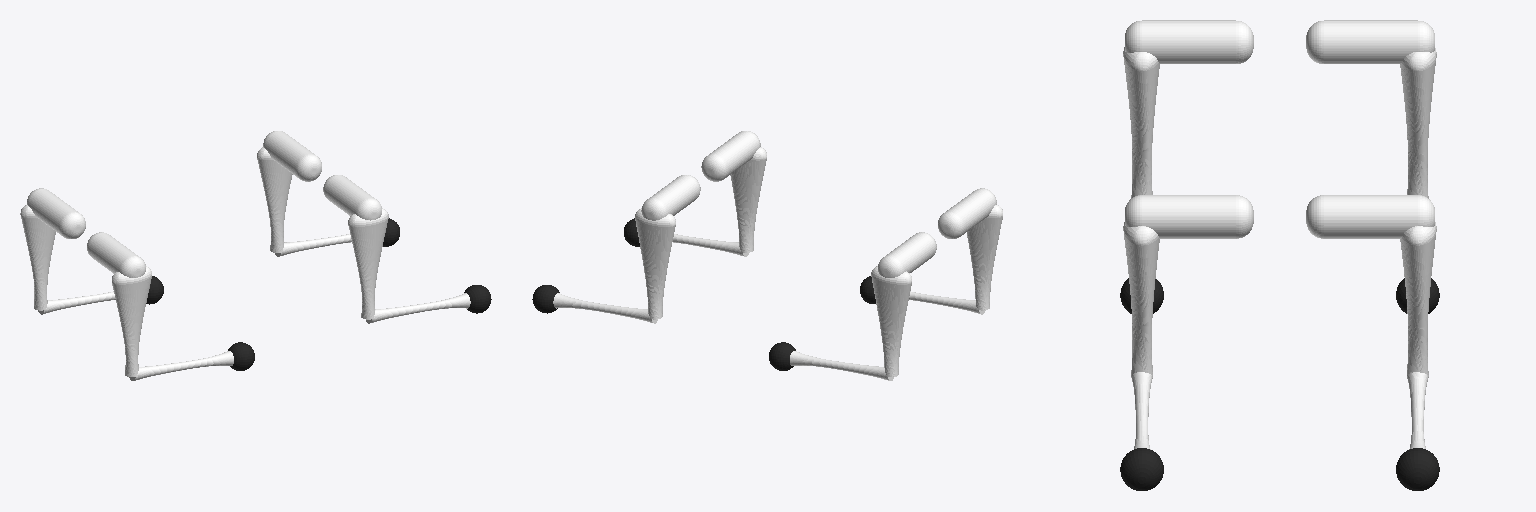
robot.urdf — cyberdog_description:
<?xml version="1.0" ?>
<robot name="cyberdog_description">
  <material name="black">
    <color rgba="0.0 0.0 0.0 1.0"/>
  </material>
  <material name="blue">
    <color rgba="0.0 0.0 0.8 1.0"/>
  </material>
  <material name="green">
    <color rgba="0.0 0.8 0.0 1.0"/>
  </material>
  <material name="grey">
    <color rgba="0.2 0.2 0.2 1.0"/>
  </material>
  <material name="silver">
    <color rgba="0.913725490196 0.913725490196 0.847058823529 1.0"/>
  </material>
  <material name="orange">
    <color rgba="1.0 0.423529411765 0.0392156862745 1.0"/>
  </material>
  <material name="brown">
    <color rgba="0.870588235294 0.811764705882 0.764705882353 1.0"/>
  </material>
  <material name="red">
    <color rgba="0.8 0.0 0.0 1.0"/>
  </material>
  <material name="white">
    <color rgba="1.0 1.0 1.0 1.0"/>
  </material>

  <!-- 悬挂 -->
  <!-- <link name="world"/>
  <joint name="base_static_joint" type="fixed">
      <origin rpy="0 0 0" xyz="0 0 0"/>
      <parent link="world"/>
      <child link="base"/>
  </joint> -->

  <link name="base">
    <visual>
      <origin rpy="0 0 0" xyz="0 0 0"/>
      <geometry>
        <box size="0.001 0.001 0.001"/>
      </geometry>
    </visual>
  </link>
  <joint name="floating_base" type="fixed">
    <origin rpy="0 0 0" xyz="0 0 0"/>
    <parent link="base"/>
    <child link="trunk"/>
  </joint>
  <link name="trunk">
    <inertial>
      <origin
        xyz="0 0 0"
        rpy="0 0 0" />
      <mass value="7.18" />
      <inertia
        ixx="0.032051"
        ixy="-0.00023217"
        ixz="0.002728"
        iyy="0.13707"
        iyz="5.6623E-05"
        izz="0.14946" />
    </inertial>
    <visual>
      <origin
        xyz="0 0 0"
        rpy="0 0 0" />
      <geometry>
        <mesh filename="../meshes/trunk.dae" />
      </geometry>
      <material name="">
        <color rgba="1 1 1 1" />
      </material>
    </visual>
    <collision>
      <origin
        xyz="0 0 0"
        rpy="0 0 0" />
      <geometry>
        <mesh filename="../meshes/trunk.STL" />
      </geometry>
    </collision>
  </link>

  <joint name="imu_joint" type="fixed">
    <parent link="trunk"/>
    <child link="imu_link"/>
    <origin rpy="0 0 0" xyz="0 0 0"/>
  </joint>
  <link name="imu_link">
    <!-- <inertial>
      <mass value="0.001"/>
      <origin rpy="0 0 0" xyz="0 0 0"/>
      <inertia ixx="0.0001" ixy="0" ixz="0" iyy="0.0001" iyz="0" izz="0.0001"/>
    </inertial>
    <visual>
      <origin rpy="0 0 0" xyz="0 0 0"/>
      <geometry>
        <box size="0.001 0.001 0.001"/>
      </geometry>
      <material name="red"/>
    </visual>
    <collision>
      <origin rpy="0 0 0" xyz="0 0 0"/>
      <geometry>
        <box size=".001 .001 .001"/>
      </geometry>
    </collision> -->
  </link>

  <link name="FR_hip">
    <inertial>
      <origin
        xyz="0 -0.053575 0"
        rpy="0 0 0" />
      <mass value="0.509" />
      <inertia
        ixx="0.00038097"
        ixy="1.2523E-05"
        ixz="-1.1653E-05"
        iyy="0.00069383"
        iyz="5.071E-06"
        izz="0.00047336" />
    </inertial>
    <visual>
      <origin
        xyz="0 0 0"
        rpy="0 0 0" />
      <geometry>
        <mesh filename="../meshes/hip_mirror.dae" />
      </geometry>
      <material name="">
        <color rgba="1 1 1 1" />
      </material>
    </visual>
    <collision>
      <origin
        xyz="0 0 0"
        rpy="0 0 0" />
      <geometry>
        <mesh filename="../meshes/hip_mirror.STL" />
      </geometry>
    </collision>
  </link>
  <joint name="FR_hip_joint"
    type="revolute">
    <origin
      xyz="0.23536 -0.05 0"
      rpy="0 0 0" />
    <parent link="trunk" />
    <child link="FR_hip" />
    <axis xyz="1 0 0" />
    <limit
      lower="-0.75"
      upper="0.75"
      effort="17"
      velocity="38.19" />
    <dynamics
      damping="0.0"
      friction="0.0" />
  </joint>
  <link name="FR_thigh">
    <inertial>
      <origin
        xyz="0 0 -0.1"
        rpy="0 0 0" />
      <mass value="0.664" />
      <inertia
        ixx="0.0033376"
        ixy="-7.1504E-07"
        ixz="-0.00019282"
        iyy="0.0026385"
        iyz="-9.3033E-06"
        izz="0.0013093" />
    </inertial>
    <visual>
      <origin
        xyz="0 0 0"
        rpy="0 0 0" />
      <geometry>
        <mesh filename="../meshes/thigh.dae" />
      </geometry>
      <material name="">
        <color rgba="1 1 1 1" />
      </material>
    </visual>
    <collision>
      <origin
        xyz="0 0 0"
        rpy="0 0 0" />
      <geometry>
        <mesh filename="../meshes/thigh.STL" />
      </geometry>
    </collision>
  </link>
  <joint name="FR_thigh_joint"
    type="revolute">
    <origin
      xyz="0 -0.10715 0"
      rpy="0 0 0" />
    <parent link="FR_hip" />
    <child link="FR_thigh" />
    <axis xyz="0 1 0" />
    <limit
      lower="-1.257"
      upper="4.363"
      effort="24"
      velocity="38.19" />
    <dynamics
      damping="0.0"
      friction="0.0" />
  </joint>
  <link name="FR_calf">
    <inertial>
      <origin
        xyz="0 0 -0.11439"
        rpy="0 0 0" />
      <mass value="0.114" />
      <inertia
        ixx="0.0014553"
        ixy="-3.2376E-08"
        ixz="8.3885E-05"
        iyy="0.0021522"
        iyz="5.1259E-07"
        izz="0.00070545" />
    </inertial>
    <visual>
      <origin
        xyz="0 0 0"
        rpy="0 0 0" />
      <geometry>
        <mesh filename="../meshes/calf.dae" />
      </geometry>
      <material name="">
        <color rgba="1 1 1 1" />
      </material>
    </visual>
    <collision>
      <origin
        xyz="0 0 0"
        rpy="0 0 0" />
      <geometry>
        <mesh filename="../meshes/calf.STL" />
      </geometry>
    </collision>
  </link>
  <joint name="FR_calf_joint"
    type="revolute">
    <origin
      xyz="0 0 -0.2"
      rpy="0 0 0" />
    <parent link="FR_thigh" />
    <child link="FR_calf" />
    <axis xyz="0 1 0" />
    <limit
      lower="-2.478"
      upper="-0.506"
      effort="24"
      velocity="38.19" />
    <dynamics
      damping="0.0"
      friction="0.0" />
  </joint>
  <joint name="FR_foot_fixed" type="fixed"  dont_collapse="true">
    <origin rpy="0 0 0" xyz="0 0 -0.217"/>
    <parent link="FR_calf"/>
    <child link="FR_foot"/>
  </joint>
  <link name="FR_foot">
    <visual>
      <origin rpy="0 0 0" xyz="0 0 0"/>
      <geometry>
        <sphere radius="0.025"/>
      </geometry>
      <material name="grey"/>
    </visual>
    <collision>
      <origin rpy="0 0 0" xyz="0 0 0"/>
      <geometry>
        <sphere radius="0.025"/>
      </geometry>
    </collision>
    <inertial>
      <mass value="0.026"/>
      <inertia ixx="0.0" ixy="0.0" ixz="0.0" iyy="0.0" iyz="0.0" izz="0.0"/>
    </inertial>
  </link>

  <link name="FL_hip">
    <inertial>
      <origin
        xyz="0 0.053575 0"
        rpy="0 0 0" />
      <mass value="0.509" />
      <inertia
        ixx="0.00038097"
        ixy="1.2523E-05"
        ixz="-1.1653E-05"
        iyy="0.00069383"
        iyz="5.071E-06"
        izz="0.00047336" />
    </inertial>
    <visual>
      <origin
        xyz="0 0 0"
        rpy="0 0 0" />
      <geometry>
        <mesh filename="../meshes/hip.dae" />
      </geometry>
      <material name="">
        <color rgba="1 1 1 1" />
      </material>
    </visual>
    <collision>
      <origin
        xyz="0 0 0"
        rpy="0 0 0" />
      <geometry>
        <mesh filename="../meshes/hip.STL" />
      </geometry>
    </collision>
  </link>
  <joint name="FL_hip_joint"
    type="revolute">
    <origin
      xyz="0.23536 0.05 0"
      rpy="0 0 0" />
    <parent link="trunk" />
    <child link="FL_hip" />
    <axis xyz="1 0 0" />
    <limit
      lower="-0.75"
      upper="0.75"
      effort="17"
      velocity="38.19" />
    <dynamics
      damping="0.0"
      friction="0.0" />
  </joint>
  <link name="FL_thigh">
    <inertial>
      <origin
        xyz="0 0 -0.1"
        rpy="0 0 0" />
      <mass value="0.664" />
      <inertia
        ixx="0.0033376"
        ixy="-7.150375E-07"
        ixz="-0.00019282"
        iyy="0.0026385"
        iyz="-9.3033E-06"
        izz="0.0013093" />
    </inertial>
    <visual>
      <origin
        xyz="0 0 0"
        rpy="0 0 0" />
      <geometry>
        <mesh filename="../meshes/thigh.dae" />
      </geometry>
      <material name="">
        <color rgba="1 1 1 1" />
      </material>
    </visual>
    <collision>
      <origin
        xyz="0 0 0"
        rpy="0 0 0" />
      <geometry>
        <mesh filename="../meshes/thigh.STL" />
      </geometry>
    </collision>
  </link>
  <joint name="FL_thigh_joint"
    type="revolute">
    <origin
      xyz="0 0.10715 0"
      rpy="0 0 0" />
    <parent link="FL_hip" />
    <child link="FL_thigh" />
    <axis xyz="0 1 0" />
    <limit
      lower="-1.257"
      upper="4.363"
      effort="24"
      velocity="38.19" />
    <dynamics
      damping="0.0"
      friction="0.0" />
  </joint>
  <link name="FL_calf">
    <inertial>
      <origin
        xyz="0 0 -0.11439"
        rpy="0 0 0" />
      <mass value="0.114" />
      <inertia
        ixx="0.0014553"
        ixy="-3.2376E-08"
        ixz="8.3885E-05"
        iyy="0.0021522"
        iyz="5.1259E-07"
        izz="0.00070545" />
    </inertial>
    <visual>
      <origin
        xyz="0 0 0"
        rpy="0 0 0" />
      <geometry>
        <mesh filename="../meshes/calf.dae" />
      </geometry>
      <material name="">
        <color rgba="1 1 1 1" />
      </material>
    </visual>
    <collision>
      <origin
        xyz="0 0 0"
        rpy="0 0 0" />
      <geometry>
        <mesh filename="../meshes/calf.STL" />
      </geometry>
    </collision>
  </link>
  <joint name="FL_calf_joint"
    type="revolute">
    <origin
      xyz="0 0 -0.2"
      rpy="0 0 0" />
    <parent link="FL_thigh" />
    <child link="FL_calf" />
    <axis xyz="0 1 0" />
    <limit
      lower="-2.478"
      upper="-0.506"
      effort="24"
      velocity="38.19" />
    <dynamics
      damping="0.0"
      friction="0.0" />
  </joint>
  <joint name="FL_foot_fixed" type="fixed" dont_collapse="true">
    <origin rpy="0 0 0" xyz="0 0 -0.217"/>
    <parent link="FL_calf"/>
    <child link="FL_foot"/>
  </joint>
  <link name="FL_foot">
    <visual>
      <origin rpy="0 0 0" xyz="0 0 0"/>
      <geometry>
        <sphere radius="0.025"/>
      </geometry>
      <material name="grey"/>
    </visual>
    <collision>
      <origin rpy="0 0 0" xyz="0 0 0"/>
      <geometry>
        <sphere radius="0.025"/>
      </geometry>
    </collision>
    <inertial>
      <mass value="0.026"/>
      <inertia ixx="0.0" ixy="0.0" ixz="0.0" iyy="0.0" iyz="0.0" izz="0.0"/>
    </inertial>
  </link>

  <link name="RR_hip">
    <inertial>
      <origin
        xyz="0 -0.053575 0"
        rpy="0 0 0" />
      <mass value="0.509" />
      <inertia
        ixx="0.00038097"
        ixy="1.2523E-05"
        ixz="-1.1653E-05"
        iyy="0.00069383"
        iyz="5.071E-06"
        izz="0.00047336" />
    </inertial>
    <visual>
      <origin
        xyz="0 0 0"
        rpy="0 0 0" />
      <geometry>
        <mesh filename="../meshes/hip_mirror.dae" />
      </geometry>
      <material name="">
        <color rgba="1 1 1 1" />
      </material>
    </visual>
    <collision>
      <origin
        xyz="0 0 0"
        rpy="0 0 0" />
      <geometry>
        <mesh filename="../meshes/hip_mirror.STL" />
      </geometry>
    </collision>
  </link>
  <joint name="RR_hip_joint"
    type="revolute">
    <origin
      xyz="-0.23536 -0.05 0"
      rpy="0 0 0" />
    <parent link="trunk" />
    <child link="RR_hip" />
    <axis xyz="1 0 0" />
    <limit
      lower="-0.75"
      upper="0.75"
      effort="17"
      velocity="38.19" />
    <dynamics
      damping="0.0"
      friction="0.0" />
  </joint>
  <link name="RR_thigh">
    <inertial>
      <origin
        xyz="0 0 -0.1"
        rpy="0 0 0" />
      <mass value="0.664" />
      <inertia
        ixx="0.0033376"
        ixy="-7.150375E-07"
        ixz="-0.00019282"
        iyy="0.0026385"
        iyz="-9.3033E-06"
        izz="0.0013093" />
    </inertial>
    <visual>
      <origin
        xyz="0 0 0"
        rpy="0 0 0" />
      <geometry>
        <mesh filename="../meshes/thigh.dae" />
      </geometry>
      <material name="">
        <color rgba="1 1 1 1" />
      </material>
    </visual>
    <collision>
      <origin
        xyz="0 0 0"
        rpy="0 0 0" />
      <geometry>
        <mesh filename="../meshes/thigh.STL" />
      </geometry>
    </collision>
  </link>
  <joint name="RR_thigh_joint"
    type="revolute">
    <origin
      xyz="0 -0.10715 0"
      rpy="0 0 0" />
    <parent link="RR_hip" />
    <child link="RR_thigh" />
    <axis xyz="0 1 0" />
    <limit
      lower="-2.01"
      upper="3.49"
      effort="24"
      velocity="38.19" />
    <dynamics
      damping="0.0"
      friction="0.0" />
  </joint>
  <link name="RR_calf">
    <inertial>
      <origin
        xyz="0 0 -0.11439"
        rpy="0 0 0" />
      <mass value="0.114" />
      <inertia
        ixx="0.0014553"
        ixy="-3.2376E-08"
        ixz="8.3885E-05"
        iyy="0.0021522"
        iyz="5.1259E-07"
        izz="0.00070545" />
    </inertial>
    <visual>
      <origin
        xyz="0 0 0"
        rpy="0 0 0" />
      <geometry>
        <mesh filename="../meshes/calf.dae" />
      </geometry>
      <material name="">
        <color rgba="1 1 1 1" />
      </material>
    </visual>
    <collision>
      <origin
        xyz="0 0 0"
        rpy="0 0 0" />
      <geometry>
        <mesh filename="../meshes/calf.STL" />
      </geometry>
    </collision>
  </link>
  <joint name="RR_calf_joint"
    type="revolute">
    <origin
      xyz="0 0 -0.2"
      rpy="0 0 0" />
    <parent link="RR_thigh" />
    <child link="RR_calf" />
    <axis xyz="0 1 0" />
    <limit
      lower="-2.478"
      upper="-0.506"
      effort="24"
      velocity="38.19" />
    <dynamics
      damping="0.0"
      friction="0.0" />
  </joint>
  <joint name="RR_foot_fixed" type="fixed" dont_collapse="true">
    <origin rpy="0 0 0" xyz="0 0 -0.217"/>
    <parent link="RR_calf"/>
    <child link="RR_foot"/>
  </joint>
  <link name="RR_foot">
    <visual>
      <origin rpy="0 0 0" xyz="0 0 0"/>
      <geometry>
        <sphere radius="0.025"/>
      </geometry>
      <material name="grey"/>
    </visual>
    <collision>
      <origin rpy="0 0 0" xyz="0 0 0"/>
      <geometry>
        <sphere radius="0.025"/>
      </geometry>
    </collision>
    <inertial>
      <mass value="0.026"/>
      <inertia ixx="0.0" ixy="0.0" ixz="0.0" iyy="0.0" iyz="0.0" izz="0.0"/>
    </inertial>
  </link>

  <link name="RL_hip">
    <inertial>
      <origin
        xyz="0 0.053575 0"
        rpy="0 0 0" />
      <mass value="0.509" />
      <inertia
        ixx="0.00038097"
        ixy="1.2523E-05"
        ixz="-1.1653E-05"
        iyy="0.00069383"
        iyz="5.071E-06"
        izz="0.00047336" />
    </inertial>
    <visual>
      <origin
        xyz="0 0 0"
        rpy="0 0 0" />
      <geometry>
        <mesh filename="../meshes/hip.dae" />
      </geometry>
      <material name="">
        <color rgba="1 1 1 1" />
      </material>
    </visual>
    <collision>
      <origin
        xyz="0 0 0"
        rpy="0 0 0" />
      <geometry>
        <mesh filename="../meshes/hip.STL" />
      </geometry>
    </collision>
  </link>
  <joint name="RL_hip_joint"
    type="revolute">
    <origin
      xyz="-0.23536 0.05 0"
      rpy="0 0 0" />
    <parent link="trunk" />
    <child link="RL_hip" />
    <axis xyz="1 0 0" />
    <limit
      lower="-0.75"
      upper="0.75"
      effort="17"
      velocity="38.19" />
    <dynamics
      damping="0.0"
      friction="0.0" />
  </joint>
  <link name="RL_thigh">
    <inertial>
      <origin
        xyz="0 0 -0.1"
        rpy="0 0 0" />
      <mass value="0.664" />
      <inertia
        ixx="0.0033376"
        ixy="-7.1504E-07"
        ixz="-0.00019282"
        iyy="0.0026385"
        iyz="-9.3033E-06"
        izz="0.0013093" />
    </inertial>
    <visual>
      <origin
        xyz="0 0 0"
        rpy="0 0 0" />
      <geometry>
        <mesh filename="../meshes/thigh.dae" />
      </geometry>
      <material name="">
        <color rgba="1 1 1 1" />
      </material>
    </visual>
    <collision>
      <origin
        xyz="0 0 0"
        rpy="0 0 0" />
      <geometry>
        <mesh filename="../meshes/thigh.STL" />
      </geometry>
    </collision>
  </link>
  <joint name="RL_thigh_joint"
    type="revolute">
    <origin
      xyz="0 0.10715 0"
      rpy="0 0 0" />
    <parent link="RL_hip" />
    <child link="RL_thigh" />
    <axis xyz="0 1 0" />
    <limit
      lower="-2.01"
      upper="3.49"
      effort="24"
      velocity="38.19" />
    <dynamics
      damping="0.0"
      friction="0.0" />
  </joint>
  <link name="RL_calf">
    <inertial>
      <origin
        xyz="0 0 -0.11439"
        rpy="0 0 0" />
      <mass value="0.114" />
      <inertia
        ixx="0.0014553"
        ixy="-3.2376E-08"
        ixz="8.3885E-05"
        iyy="0.0021522"
        iyz="5.1259E-07"
        izz="0.00070545" />
    </inertial>
    <visual>
      <origin
        xyz="0 0 0"
        rpy="0 0 0" />
      <geometry>
        <mesh filename="../meshes/calf.dae" />
      </geometry>
      <material name="">
        <color rgba="1 1 1 1" />
      </material>
    </visual>
    <collision>
      <origin
        xyz="0 0 0"
        rpy="0 0 0" />
      <geometry>
        <mesh filename="../meshes/calf.STL" />
      </geometry>
    </collision>
  </link>
  <joint name="RL_calf_joint"
    type="revolute">
    <origin
      xyz="0 0 -0.2"
      rpy="0 0 0" />
    <parent link="RL_thigh" />
    <child link="RL_calf" />
    <axis xyz="0 1 0" />
    <limit
      lower="-2.478"
      upper="-0.506"
      effort="24"
      velocity="38.19" />
    <dynamics
      damping="0.0"
      friction="0.0" />
  </joint>
  <joint name="RL_foot_fixed" type="fixed" dont_collapse="true">
    <origin rpy="0 0 0" xyz="0 0 -0.217"/>
    <parent link="RL_calf"/>
    <child link="RL_foot"/>
  </joint>
  <link name="RL_foot">
    <visual>
      <origin rpy="0 0 0" xyz="0 0 0"/>
      <geometry>
        <sphere radius="0.025"/>
      </geometry>
      <material name="grey"/>
    </visual>
    <collision>
      <origin rpy="0 0 0" xyz="0 0 0"/>
      <geometry>
        <sphere radius="0.025"/>
      </geometry>
    </collision>
    <inertial>
      <mass value="0.026"/>
      <inertia ixx="0.0" ixy="0.0" ixz="0.0" iyy="0.0" iyz="0.0" izz="0.0"/>
    </inertial>
  </link>

</robot>

--- Render facts (derived) ---
Views: 3 orthographic renders of the robot side by side, from view 1: azimuth 30°, elevation 25°; view 2: azimuth 150°, elevation 25°; view 3: azimuth 270°, elevation 25°.
Robot: cyberdog_description — 19 links, 18 joints (12 revolute, 6 fixed); root link base; default pose: all joints at 0 but 4 set to mid-range because 0 is outside their limits (FR_calf_joint = -1.49, FL_calf_joint = -1.49, RR_calf_joint = -1.49, RL_calf_joint = -1.49).
Links seen in each view (by area): view 1: FR_thigh, RR_thigh, RL_thigh, FL_thigh, FL_hip, RL_hip, RR_hip, FR_hip, RR_calf, FR_calf, FL_calf, RL_calf (+2 smaller); view 2: FL_thigh, RL_thigh, FR_thigh, RR_thigh, FR_hip, RR_hip, FL_hip, RL_hip, RL_calf, FL_calf, FR_calf, RR_calf (+2 smaller); view 3: RL_hip, RR_hip, FL_hip, FR_hip, FR_thigh, FL_thigh, RR_thigh, RL_thigh, FR_foot, FL_foot, FL_calf, FR_calf.
Link boxes in pixels (left/top/right/bottom): FR_thigh: left=348, top=208, right=388, bottom=319; RR_thigh: left=112, top=266, right=151, bottom=376; RL_thigh: left=20, top=205, right=55, bottom=310; FL_thigh: left=257, top=147, right=292, bottom=252; FL_hip: left=263, top=131, right=321, bottom=181; RL_hip: left=27, top=188, right=85, bottom=238; RR_hip: left=87, top=232, right=145, bottom=277; FR_hip: left=323, top=175, right=381, bottom=220; RR_calf: left=129, top=351, right=233, bottom=380; FR_calf: left=366, top=293, right=470, bottom=323; FL_calf: left=275, top=234, right=351, bottom=256; RL_calf: left=38, top=291, right=115, bottom=314; FL_thigh: left=635, top=208, right=675, bottom=319; RL_thigh: left=871, top=266, right=911, bottom=376; FR_thigh: left=730, top=147, right=766, bottom=252; RR_thigh: left=967, top=205, right=1002, bottom=310; FR_hip: left=701, top=131, right=760, bottom=181; RR_hip: left=938, top=188, right=996, bottom=238; FL_hip: left=641, top=175, right=700, bottom=220; RL_hip: left=878, top=232, right=936, bottom=277; RL_calf: left=790, top=351, right=893, bottom=380; FL_calf: left=553, top=293, right=657, bottom=323; FR_calf: left=673, top=234, right=748, bottom=256; RR_calf: left=909, top=291, right=985, bottom=314; RL_hip: left=1306, top=20, right=1434, bottom=63; RR_hip: left=1125, top=20, right=1253, bottom=63; FL_hip: left=1306, top=195, right=1434, bottom=238; FR_hip: left=1125, top=195, right=1253, bottom=238; FR_thigh: left=1123, top=222, right=1159, bottom=376; FL_thigh: left=1400, top=222, right=1436, bottom=376; RR_thigh: left=1123, top=47, right=1159, bottom=198; RL_thigh: left=1400, top=48, right=1436, bottom=198; FR_foot: left=1120, top=448, right=1163, bottom=490; FL_foot: left=1396, top=448, right=1439, bottom=490; FL_calf: left=1407, top=372, right=1428, bottom=449; FR_calf: left=1131, top=372, right=1152, bottom=449.
Bounding box of the posed robot: 0.751 × 0.3643 × 0.267 m (x, y, z).
Meshes: 5 distinct files referenced, 12 mesh visuals loaded (4 Collada DAE); not drawn: 1 (reference not matched to a file when rendering).
